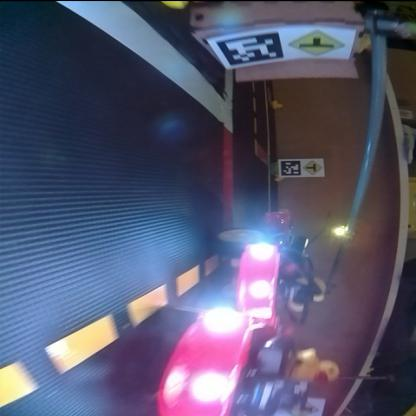Duckie: (294, 349, 340, 383), (273, 100, 283, 108), (277, 175, 285, 180)
Duckiebot: (155, 308, 286, 415), (219, 212, 306, 328)
Intersection sign: (287, 26, 349, 58), (303, 160, 324, 176)
QR code: (216, 31, 284, 67), (280, 160, 301, 176)
Traffic light: (331, 226, 350, 237)
